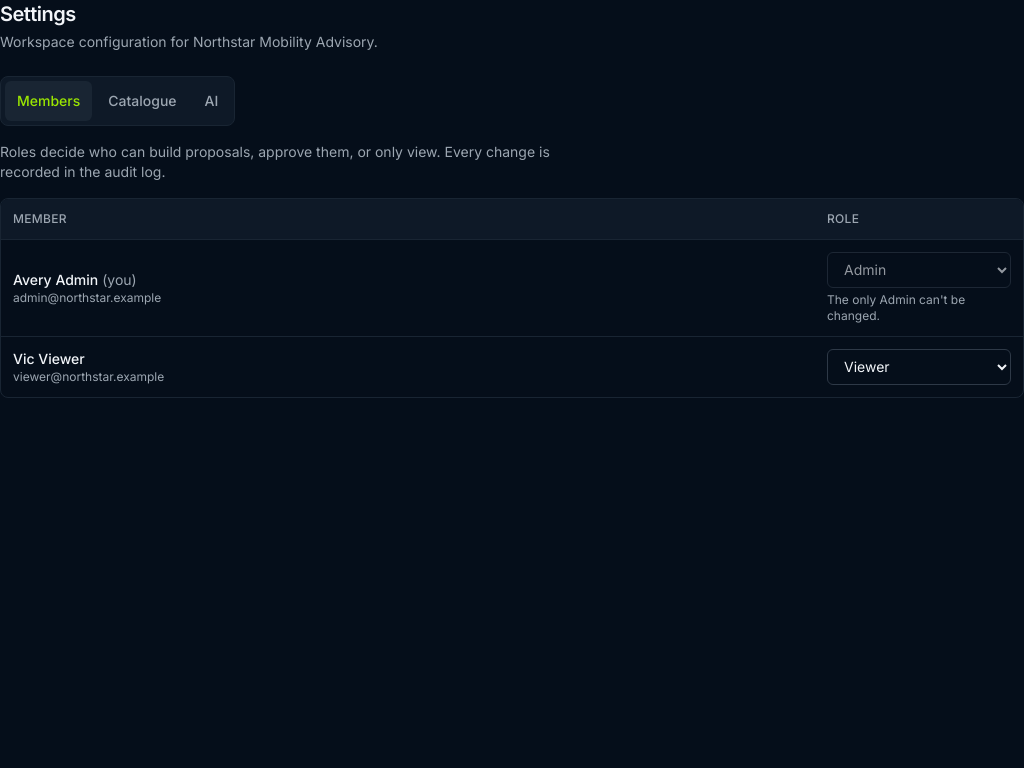
it: SettingsPage › leaves the role unchanged when the change is cancelled
Select "Admin" in the dropdown named "Role for Vic Viewer": (919, 366) [827,348,1011,384]
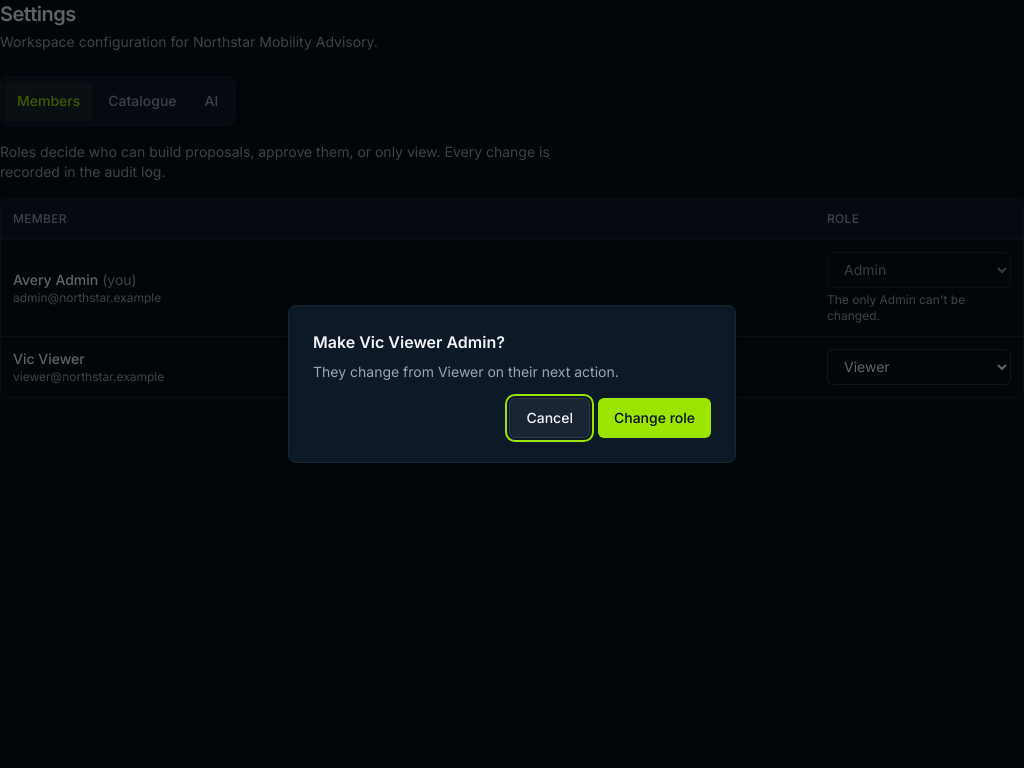
Click the button "Cancel": (550, 418) [510,398,590,438]
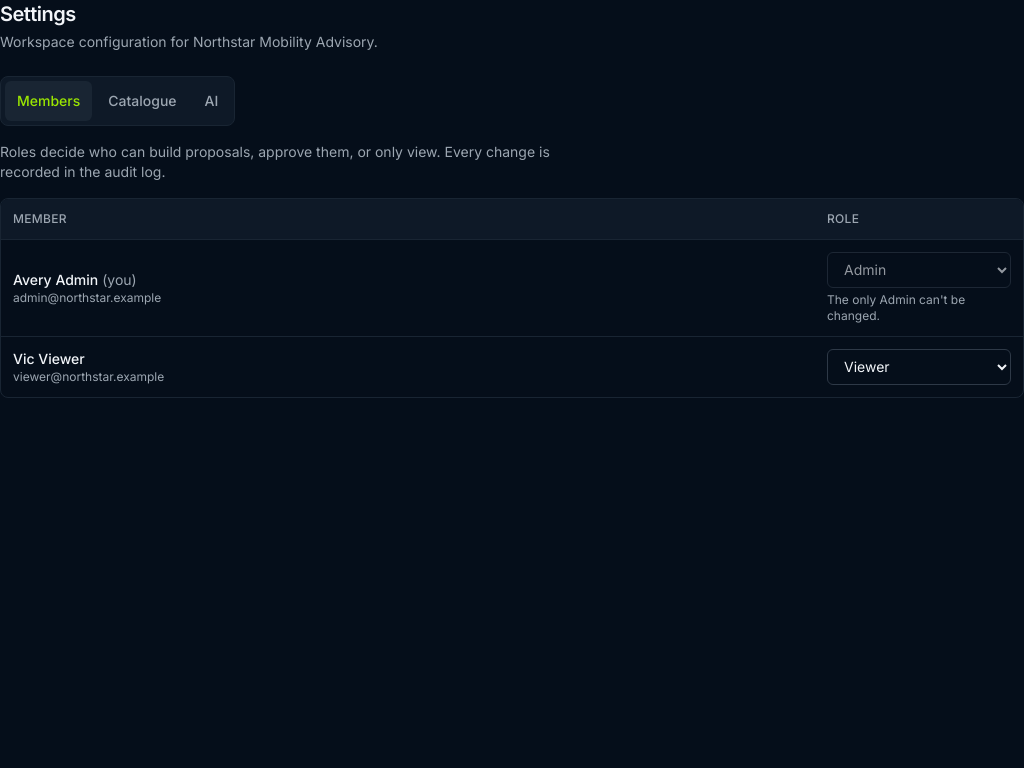
Check: the dialog is gone
